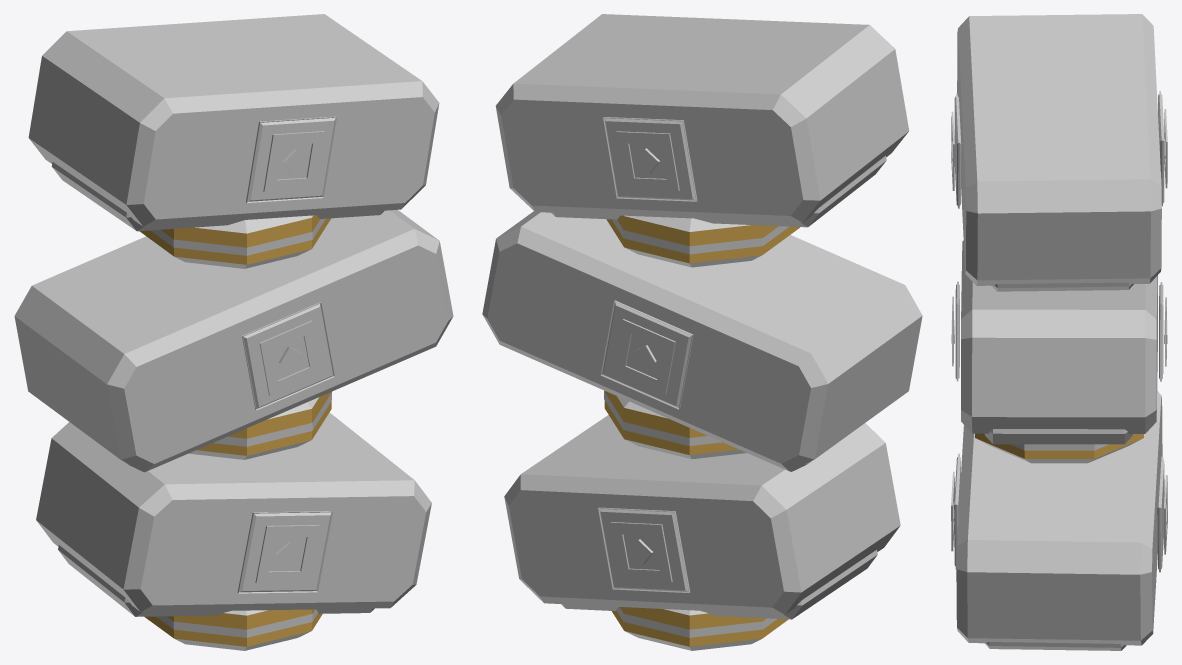
The model's file is wand_motion_28.obj.
3 renders of one model, left to right at view 1: azimuth 30°, elevation 25°; view 2: azimuth 150°, elevation 25°; view 3: azimuth 270°, elevation 25°, orthographic. The views are drawn at different scales.
Visible parts, largest first — view 1: chamfered_seal_tablet_1, chamfered_seal_tablet_2, chamfered_seal_tablet_0, tablet_spacer_2, inset_rune_socket_1, inset_rune_socket_3, inset_rune_socket_5, tablet_spacer_0, tablet_spacer_1, seal_shadow_base_2, seal_shadow_base_0, tablet_spacer_dark_seam_2 (+2 smaller); view 2: chamfered_seal_tablet_2, chamfered_seal_tablet_1, chamfered_seal_tablet_0, tablet_spacer_2, inset_rune_socket_4, inset_rune_socket_2, inset_rune_socket_0, tablet_spacer_0, tablet_spacer_1, seal_shadow_base_0, seal_shadow_base_2, tablet_spacer_dark_seam_2 (+2 smaller); view 3: chamfered_seal_tablet_2, chamfered_seal_tablet_0, chamfered_seal_tablet_1, seal_shadow_base_1, tablet_spacer_1, seal_shadow_base_2, seal_shadow_base_0, inset_rune_socket_0, inset_rune_socket_5, tablet_spacer_dark_seam_1, inset_rune_socket_4, inset_rune_socket_1 (+2 smaller).
Boxes of the visible parts, <box> form: chamfered_seal_tablet_1: <box>14,210,453,471</box>; chamfered_seal_tablet_2: <box>28,14,439,226</box>; chamfered_seal_tablet_0: <box>36,412,431,612</box>; tablet_spacer_2: <box>140,215,330,268</box>; inset_rune_socket_1: <box>237,511,332,593</box>; inset_rune_socket_3: <box>242,302,334,410</box>; inset_rune_socket_5: <box>246,116,336,202</box>; tablet_spacer_0: <box>144,609,322,650</box>; tablet_spacer_1: <box>189,392,331,459</box>; seal_shadow_base_2: <box>51,162,384,231</box>; seal_shadow_base_0: <box>58,545,374,616</box>; tablet_spacer_dark_seam_2: <box>150,218,325,255</box>; chamfered_seal_tablet_2: <box>495,14,909,222</box>; chamfered_seal_tablet_1: <box>482,211,922,471</box>; chamfered_seal_tablet_0: <box>504,415,900,614</box>; tablet_spacer_2: <box>606,215,800,267</box>; inset_rune_socket_4: <box>603,117,697,201</box>; inset_rune_socket_2: <box>600,300,693,409</box>; inset_rune_socket_0: <box>598,507,690,592</box>; tablet_spacer_0: <box>612,607,788,650</box>; tablet_spacer_1: <box>604,391,746,459</box>; seal_shadow_base_0: <box>561,550,877,619</box>; seal_shadow_base_2: <box>551,155,886,227</box>; tablet_spacer_dark_seam_2: <box>612,219,788,254</box>; chamfered_seal_tablet_2: <box>957,14,1161,285</box>; chamfered_seal_tablet_0: <box>956,391,1162,645</box>; chamfered_seal_tablet_1: <box>961,240,1157,433</box>; seal_shadow_base_1: <box>984,429,1132,444</box>; tablet_spacer_1: <box>975,433,1143,463</box>; seal_shadow_base_2: <box>991,282,1133,291</box>; seal_shadow_base_0: <box>985,642,1126,650</box>; inset_rune_socket_0: <box>1157,456,1164,572</box>; inset_rune_socket_5: <box>954,93,961,208</box>; tablet_spacer_dark_seam_1: <box>1010,444,1108,450</box>; inset_rune_socket_4: <box>1158,91,1164,206</box>; inset_rune_socket_1: <box>954,453,960,568</box>.
Bounding box in the file's own units: 0.1957 × 0.3149 × 0.1143.
